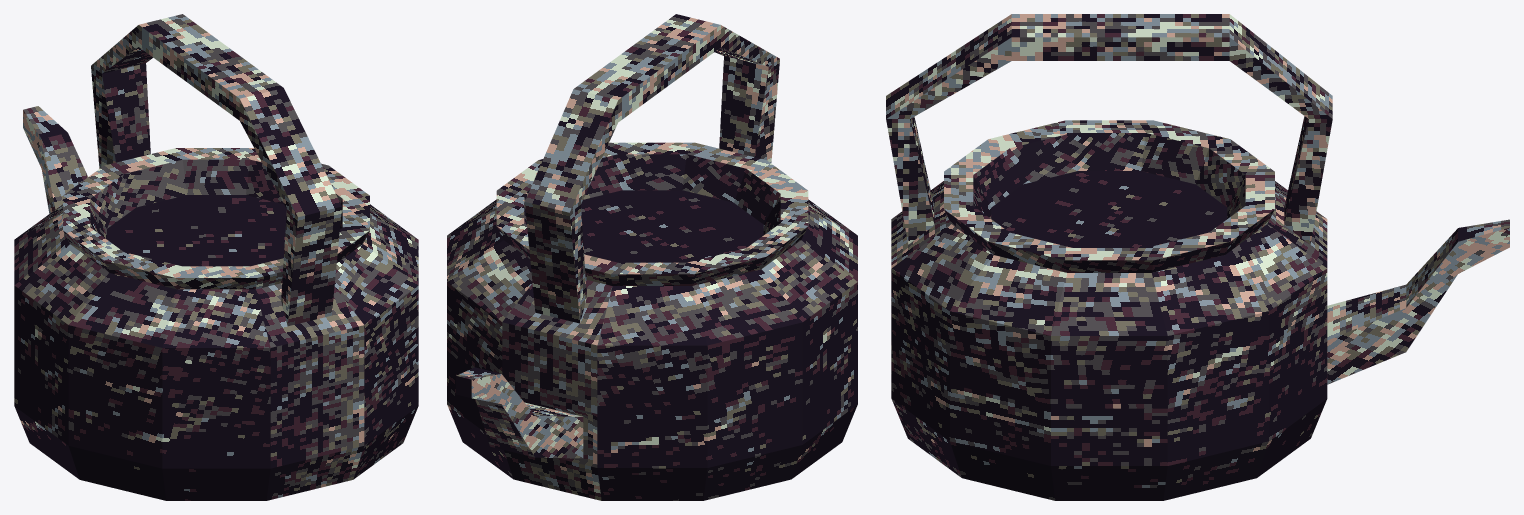
The model's file is kettle.gltf.
3 views of the same model, side by side, from view 1: azimuth 30°, elevation 25°; view 2: azimuth 150°, elevation 25°; view 3: azimuth 270°, elevation 25° (orthographic). The views are drawn at different scales.
Parts seen in each view (by area): view 1: kettle; view 2: kettle; view 3: kettle.
Boxes of the visible parts, x1,y1,x2,y2 form: kettle: (14,14,418,500); kettle: (447,14,857,500); kettle: (886,14,1509,500).
Size of the model in its own units: 1.93 by 1.91 by 2.76.
1 material, 1 textured.
